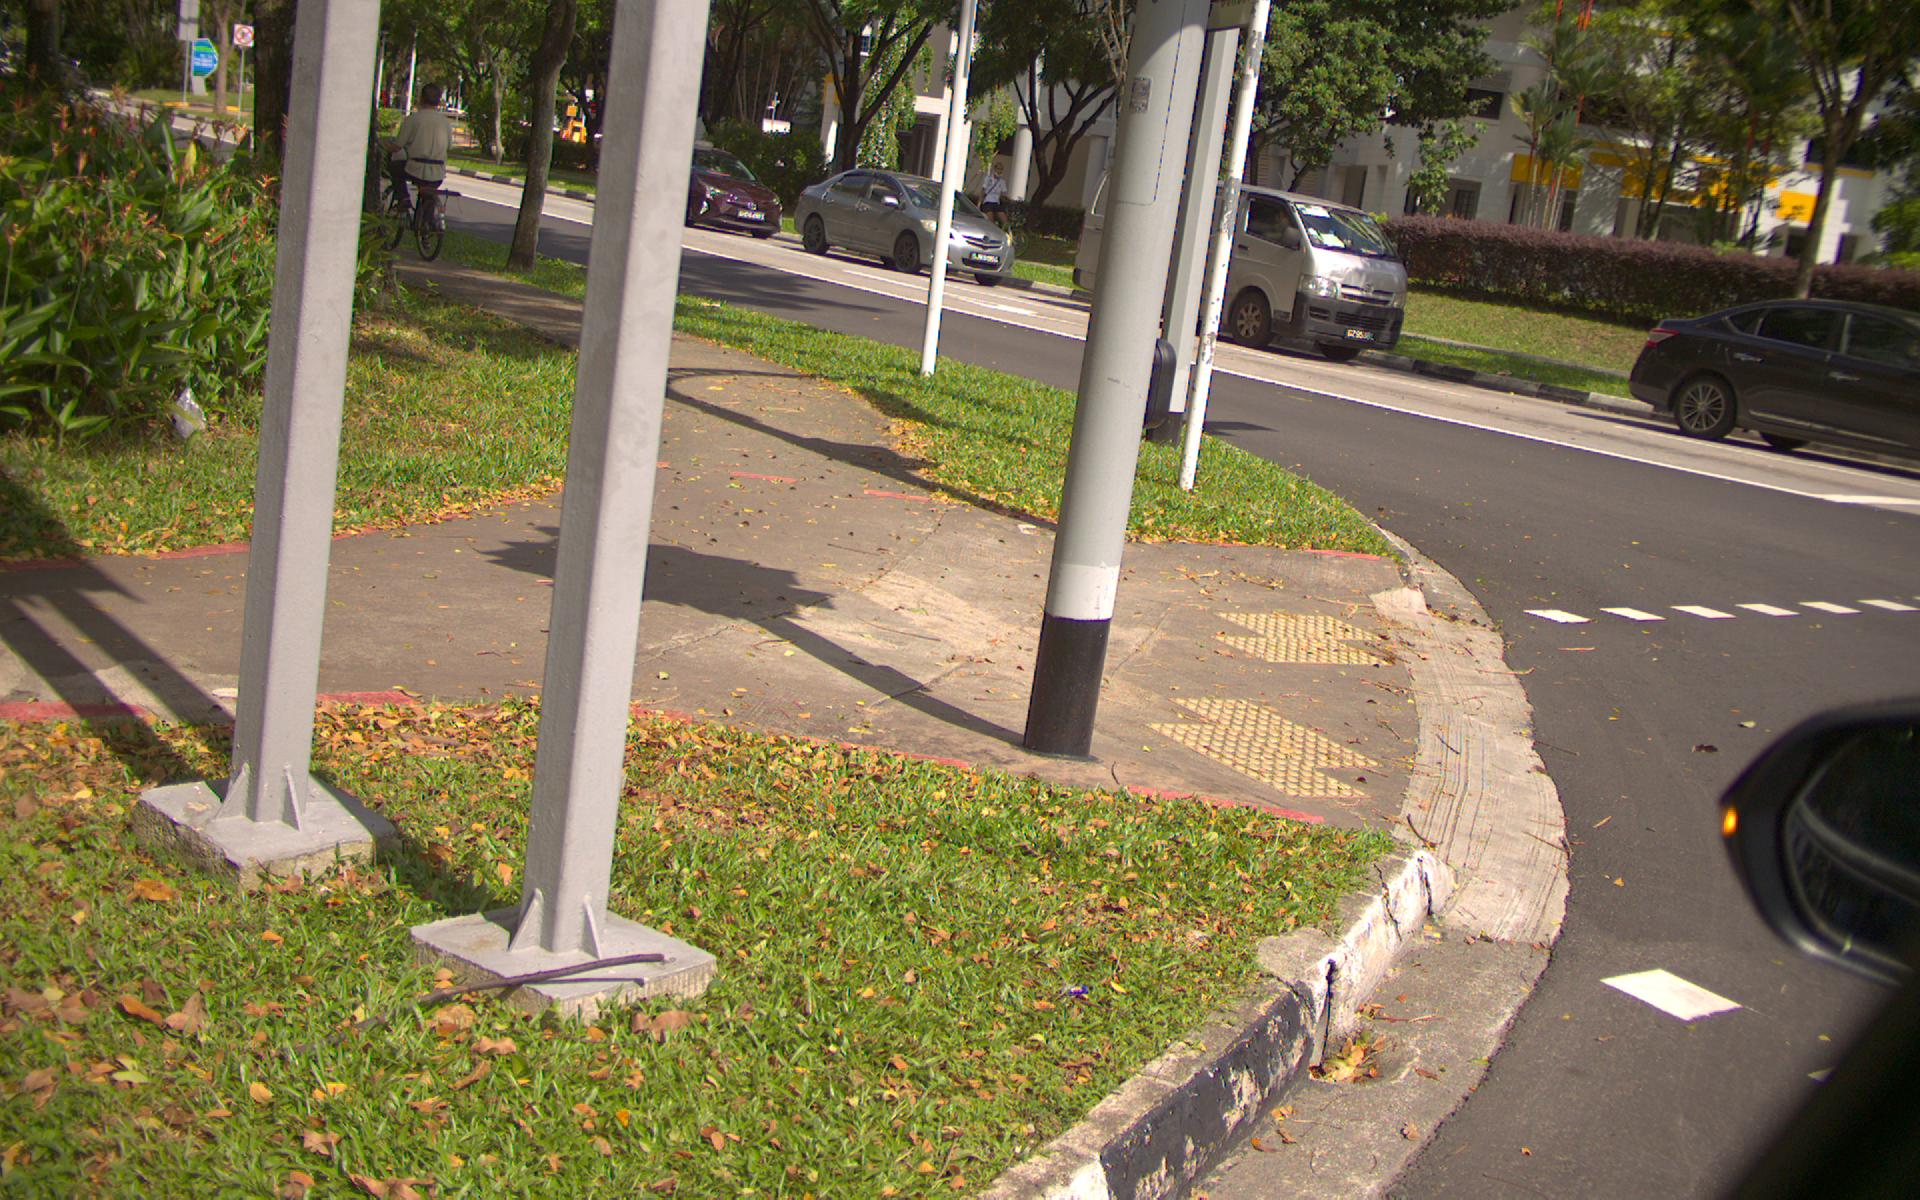pathway_low: (680, 476, 900, 727)
road_turf_low: (4, 755, 728, 1192)
